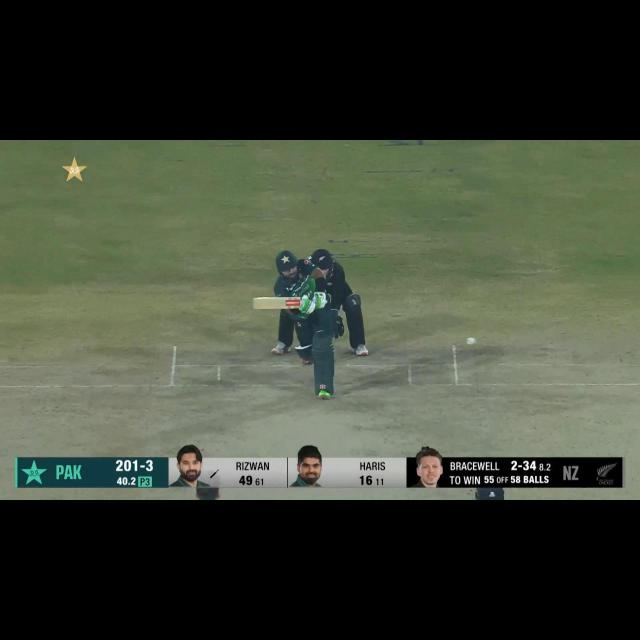bat: (253, 295, 305, 313)
toe: (252, 297, 261, 310)
